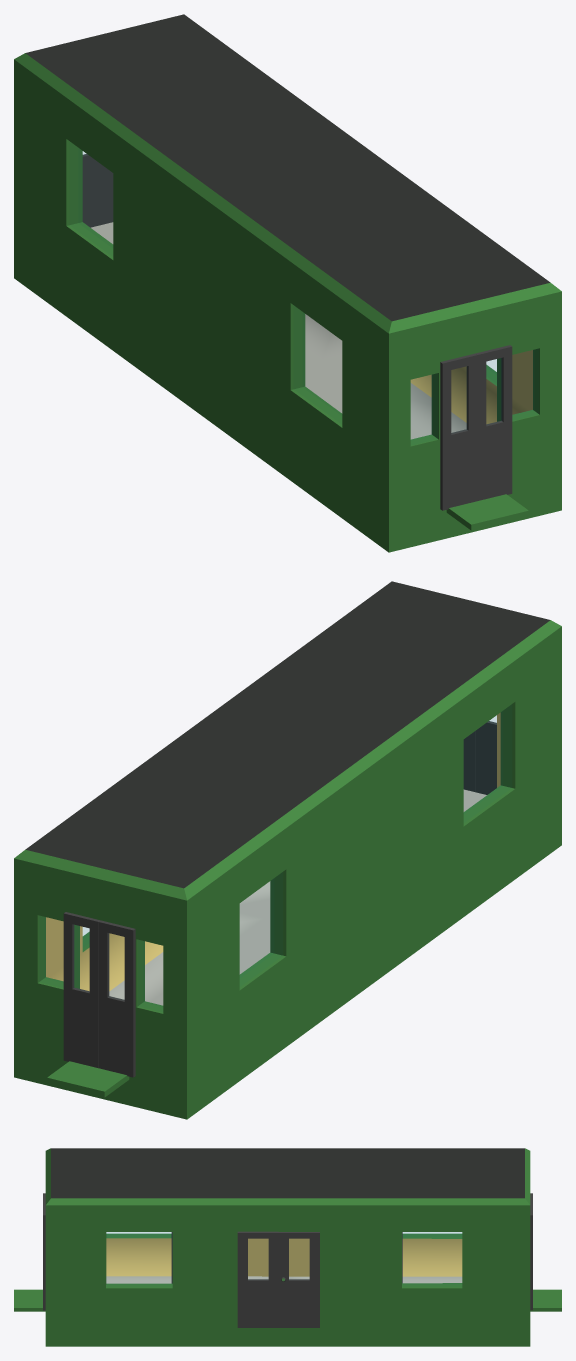
Rendered from MetroColoured.fbx.
3 views of the same model, one above another, from view 1: azimuth 30°, elevation 25°; view 2: azimuth 150°, elevation 25°; view 3: azimuth 270°, elevation 25° (orthographic). The views are drawn at different scales.
Visible parts, largest first — view 1: MainMetro, Door2 (×2), Door1 (×2); view 2: MainMetro, Door2 (×2), Door1 (×2); view 3: MainMetro, Door1 (×3), Door2.
Boxes of the visible parts, x1,y1,x2,y2 form: MainMetro: (14,14,561,552); Door2 (×2): (82,154,477,510); Door1 (×2): (100,164,512,500); MainMetro: (14,581,561,1119); Door2 (×2): (98,721,496,1077); Door1 (×2): (63,731,475,1068); MainMetro: (14,1148,561,1346); Door1 (×3): (43,1204,532,1327); Door2: (237,1231,278,1327).
Size of the model in its own units: 821 by 1000 by 3394.
Materials: 4 (1 with a texture image).
